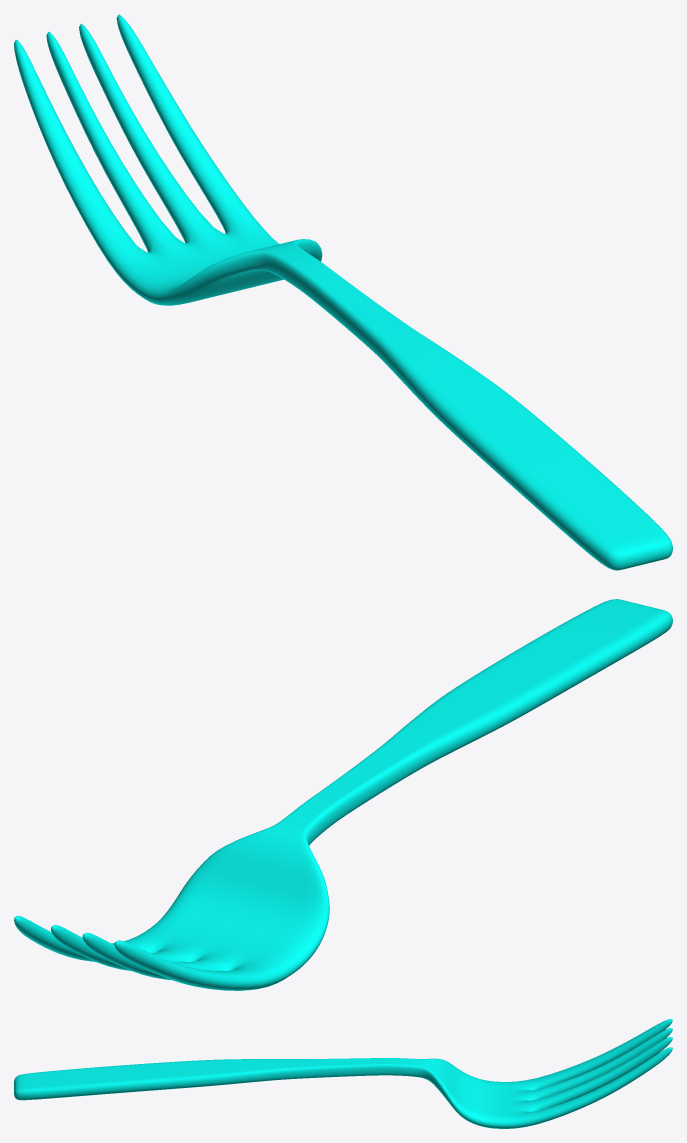
The model's file is Fork001.fbx.
3 renders of one model, top to bottom at view 1: azimuth 30°, elevation 25°; view 2: azimuth 150°, elevation 25°; view 3: azimuth 270°, elevation 25°, orthographic. The views are drawn at different scales.
Visible parts, largest first — view 1: Fork001; view 2: Fork001; view 3: Fork001.
Part boxes in pixels (x1,y1,x2,y2): Fork001: (14, 14, 672, 570); Fork001: (14, 599, 672, 990); Fork001: (14, 1019, 672, 1128).
Bounding box in the file's own units: 4.96 × 4.42 × 33.07.
